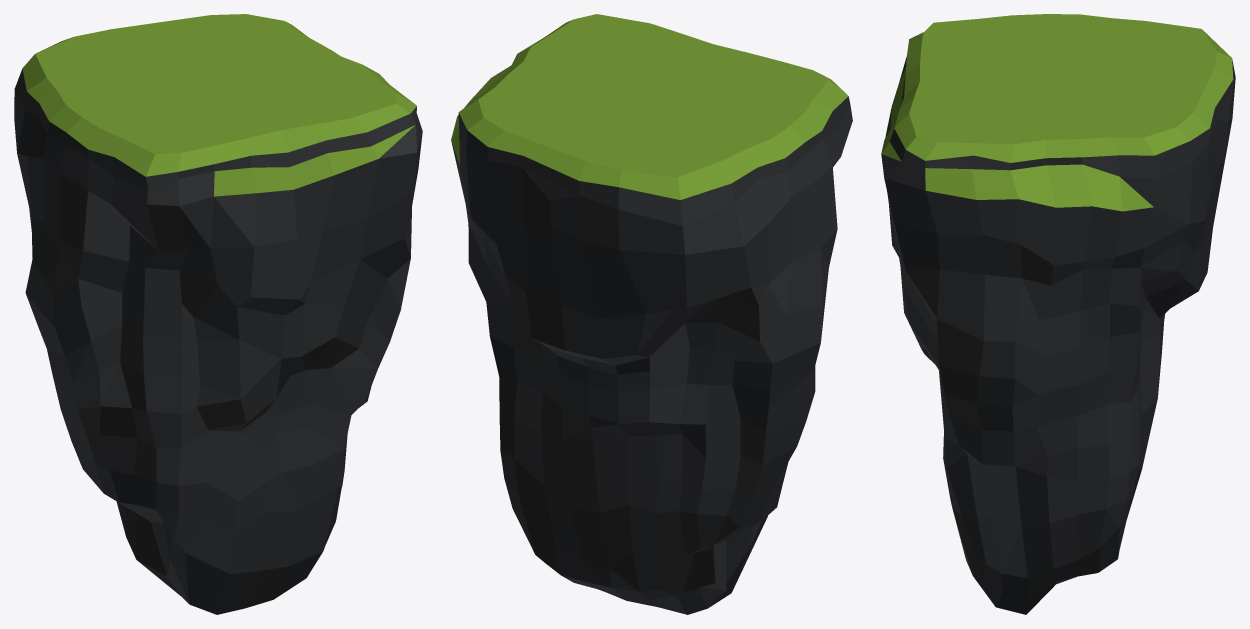
File: StoneIsland.fbx
3 views of the same model, side by side, from view 1: azimuth 30°, elevation 25°; view 2: azimuth 150°, elevation 25°; view 3: azimuth 270°, elevation 25° (orthographic). The views are drawn at different scales.
Visible parts, largest first — view 1: StoneIsland; view 2: StoneIsland; view 3: StoneIsland.
Boxes of the visible parts, bbox=[...] form: StoneIsland: bbox=[14, 14, 422, 614]; StoneIsland: bbox=[451, 14, 852, 614]; StoneIsland: bbox=[881, 14, 1235, 614].
Size of the model in its own units: 4998 by 7257 by 4579.
